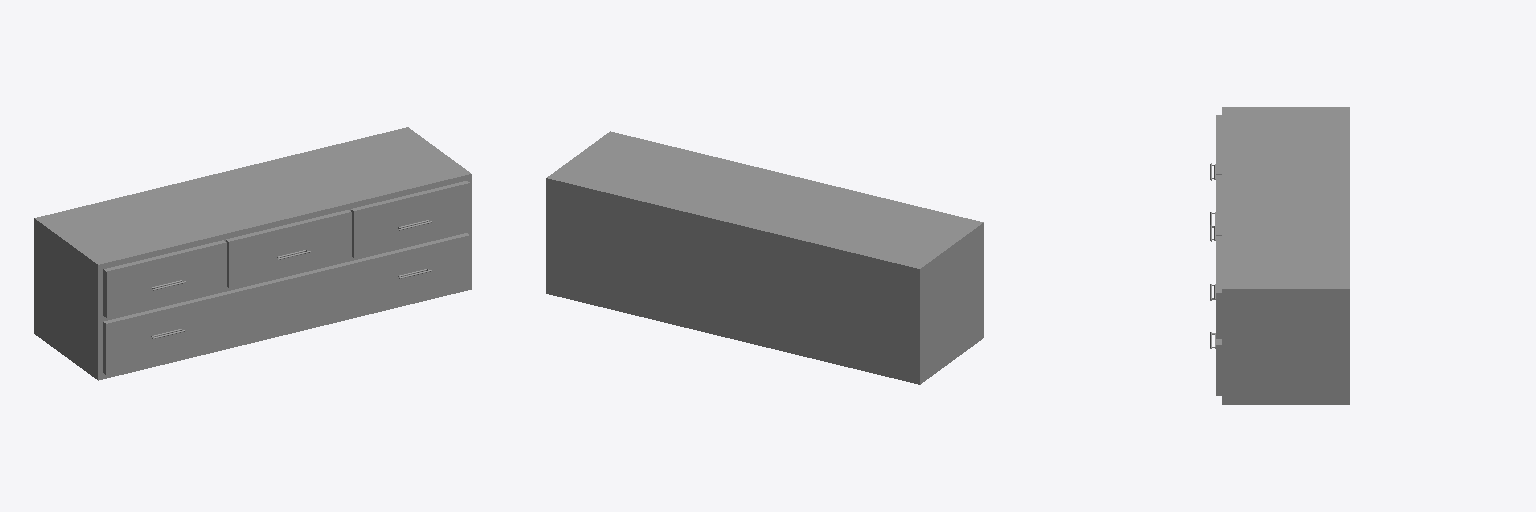
Rendered from sideboard.obj.
The picture shows the model from 3 angles: view 1: azimuth 30°, elevation 25°; view 2: azimuth 150°, elevation 25°; view 3: azimuth 270°, elevation 25°; orthographic projection.
Visible parts, largest first — view 1: Sideboard, Drawer4, Drawer2, Drawer1, Drawer3; view 2: Sideboard; view 3: Sideboard, Drawer3.
Part boxes in pixels (left/top/right/bottom): Sideboard: left=34, top=127, right=471, bottom=380; Drawer4: left=103, top=233, right=469, bottom=374; Drawer2: left=226, top=210, right=351, bottom=287; Drawer1: left=103, top=240, right=226, bottom=317; Drawer3: left=351, top=181, right=469, bottom=257; Sideboard: left=546, top=131, right=983, bottom=384; Sideboard: left=1222, top=107, right=1349, bottom=404; Drawer3: left=1210, top=236, right=1221, bottom=338.
Bounding box in the file's own units: 6.76 × 2 × 2.18.